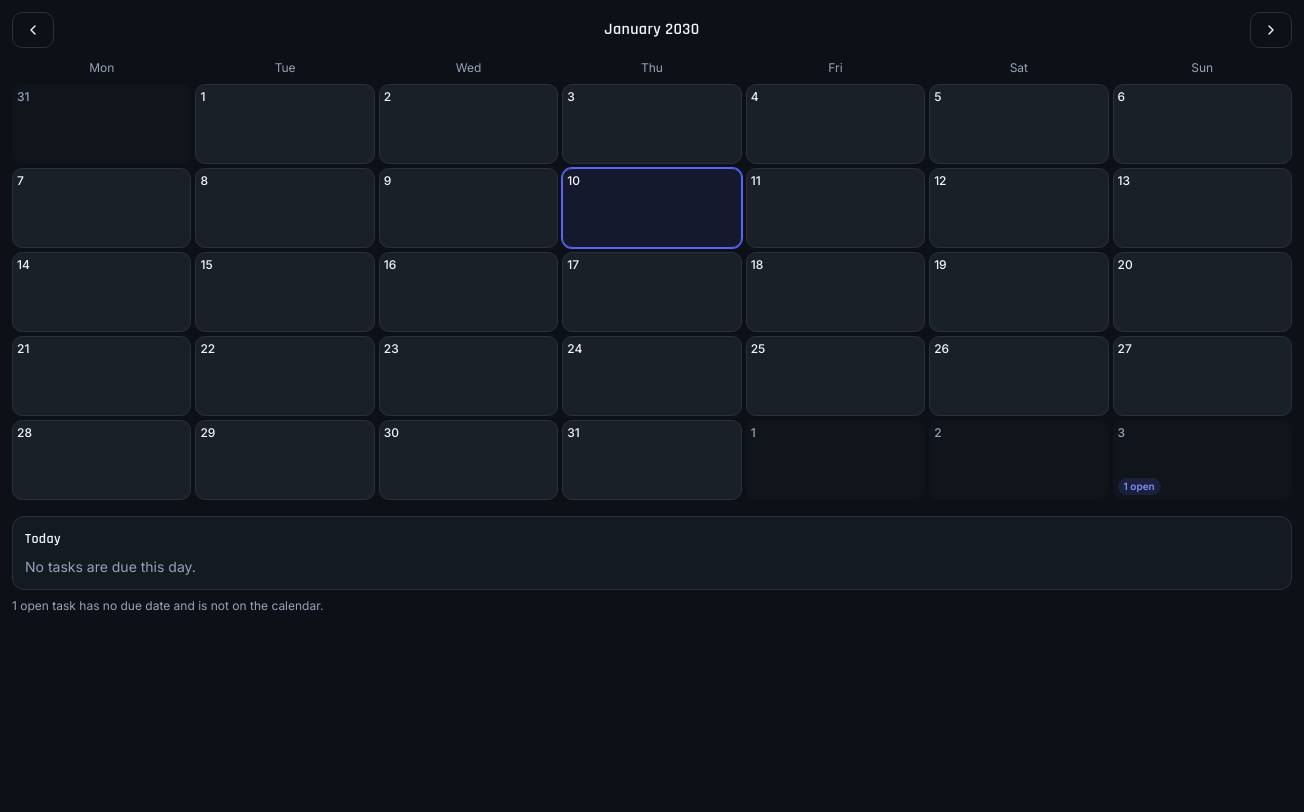
it: TaskCalendar › moves between months and mentions tasks without a date
The width and height of the screenshot is (1304, 812).
Expected: the text "1 open task has no due date and is not on the calendar." is shown, [12,598,323,613]
Click the button named "Next month" at (1271, 30), box [1250,12,1292,48]
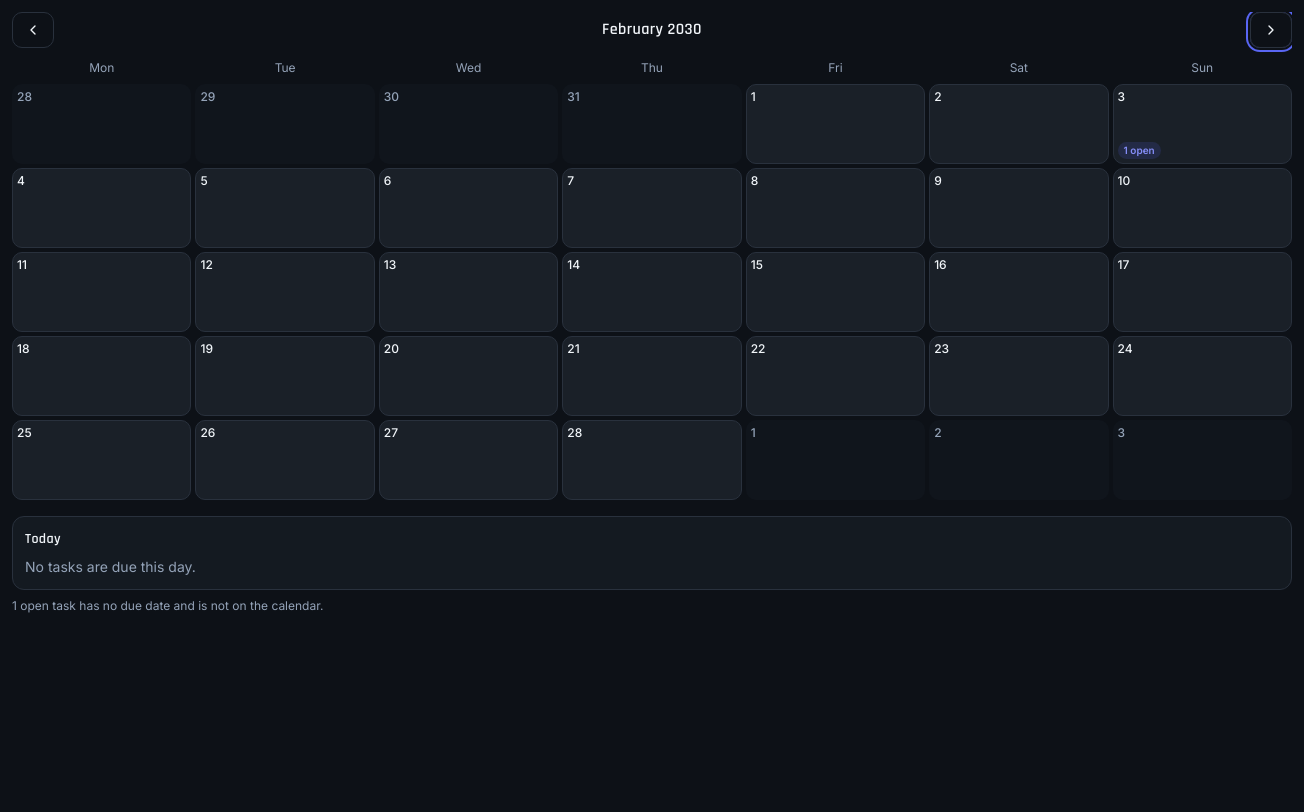
Expected: the cell named "Sunday, February 3, 2030, 1 open of 1" is shown, [1113,84,1292,164]
Expected: the heading "February 2030" is shown, [602,18,702,42]
Click the button named "Previous month" at (33, 30), box [12,12,54,48]
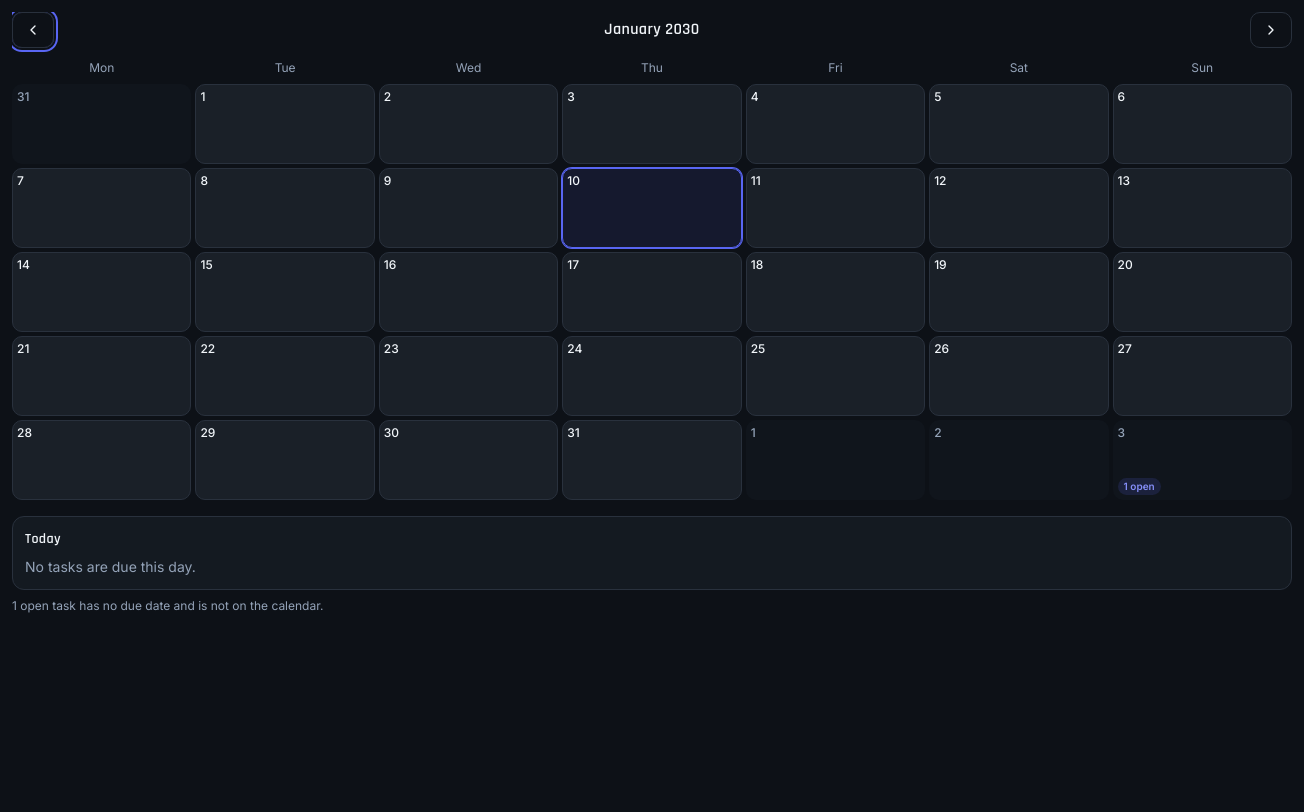
Expected: the heading "January 2030" is shown, [604,18,700,42]
